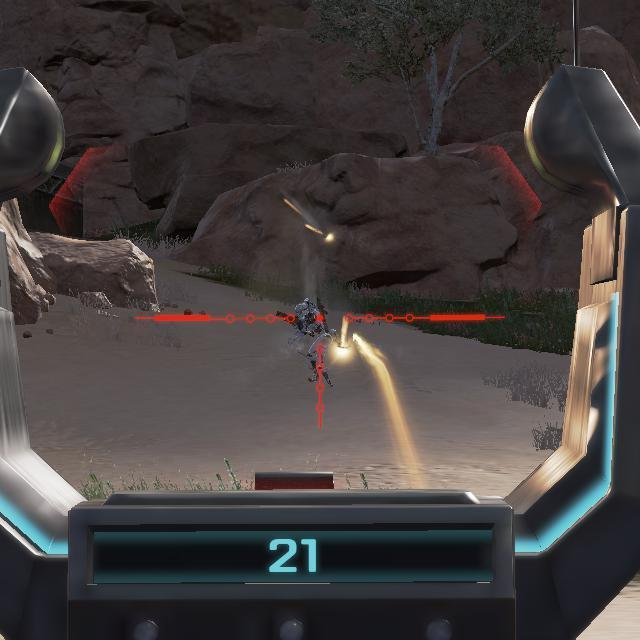avatar: (287, 296, 335, 389)
